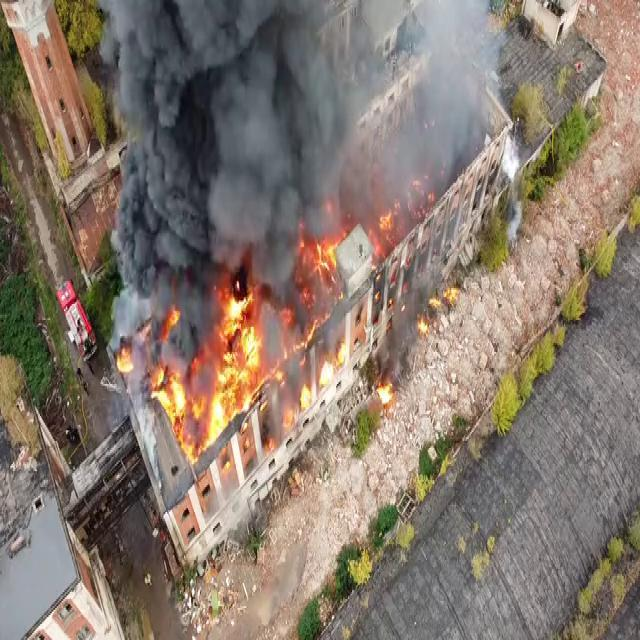fire: (170, 401, 214, 438), (154, 368, 184, 412), (214, 291, 247, 330), (406, 178, 434, 218), (216, 329, 244, 366), (302, 240, 332, 274), (238, 332, 260, 376), (368, 213, 396, 245), (212, 368, 238, 401), (233, 376, 255, 402), (214, 404, 230, 429), (184, 430, 202, 452), (378, 384, 393, 408), (118, 351, 134, 372), (416, 314, 429, 339), (426, 292, 440, 311), (442, 280, 458, 296)
smoke: (165, 63, 227, 147), (231, 92, 299, 164), (178, 152, 232, 236), (120, 194, 170, 281), (96, 3, 168, 62), (206, 6, 258, 87), (258, 3, 310, 81), (232, 168, 282, 246), (120, 53, 166, 131), (126, 136, 176, 206), (295, 120, 336, 192), (163, 5, 212, 64), (301, 54, 330, 138), (166, 228, 208, 286), (432, 70, 472, 122), (421, 0, 458, 52), (452, 5, 484, 63), (286, 165, 318, 222), (330, 59, 354, 128), (398, 129, 437, 166), (262, 305, 282, 367), (180, 268, 207, 313), (115, 290, 151, 320), (506, 197, 526, 244), (266, 388, 282, 443), (504, 137, 524, 180), (170, 326, 188, 359)
